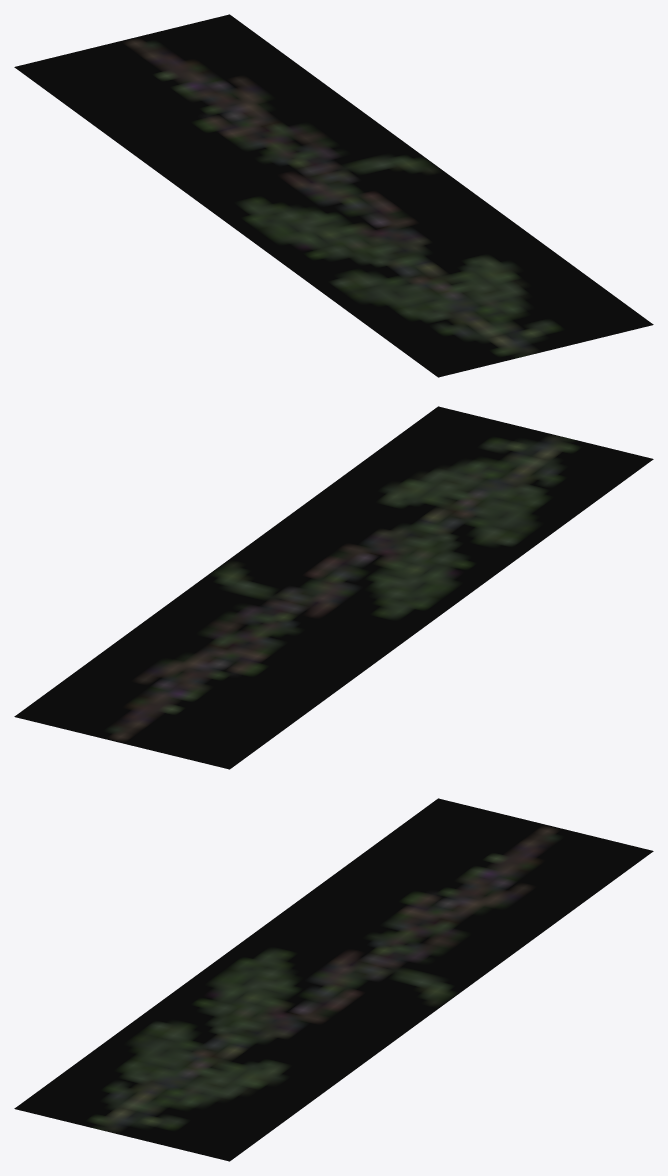
File: SM_EC_Plant_Card_06.fbx
The picture shows the model from 3 angles, top to bottom: view 1: azimuth 30°, elevation 25°; view 2: azimuth 150°, elevation 25°; view 3: azimuth 330°, elevation 25°; orthographic projection.
Visible parts, largest first — view 1: SM_EC_Plant_Card_06; view 2: SM_EC_Plant_Card_06; view 3: SM_EC_Plant_Card_06.
Part boxes in pixels (x1,y1,x2,y2): SM_EC_Plant_Card_06: [14, 14, 653, 377]; SM_EC_Plant_Card_06: [14, 406, 653, 769]; SM_EC_Plant_Card_06: [14, 798, 653, 1161].
Size of the model in its own units: 0.3344 by 1.14 by 0.
